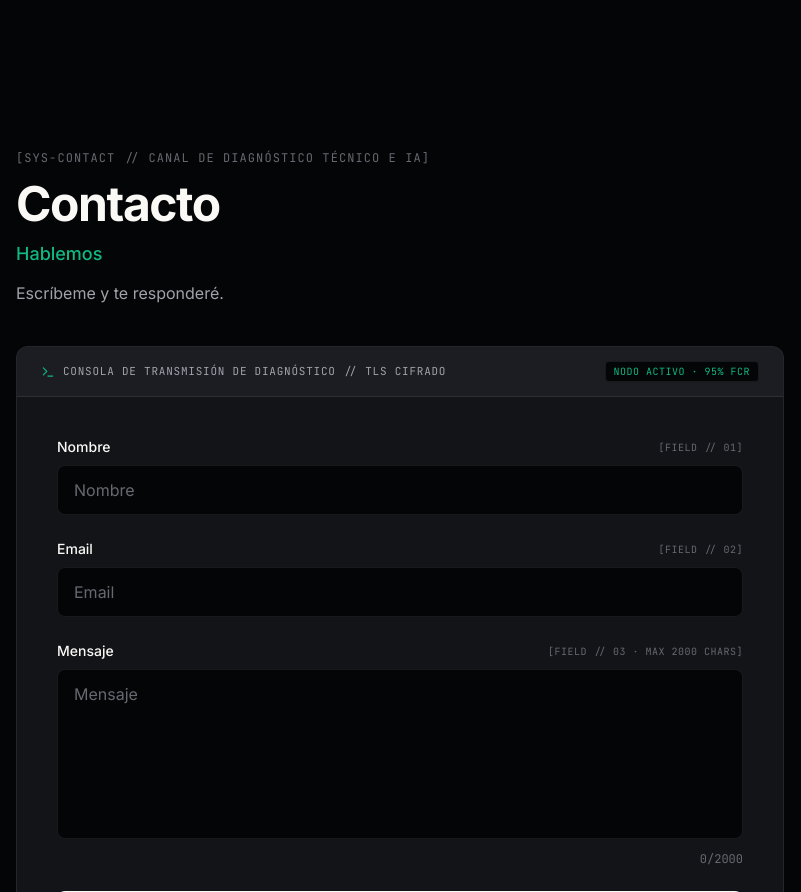
Test: ContactForm Component › should submit form successfully
In the field labelled "Nombre": (400, 490) left=57, top=465, right=743, bottom=515, type "Test User"
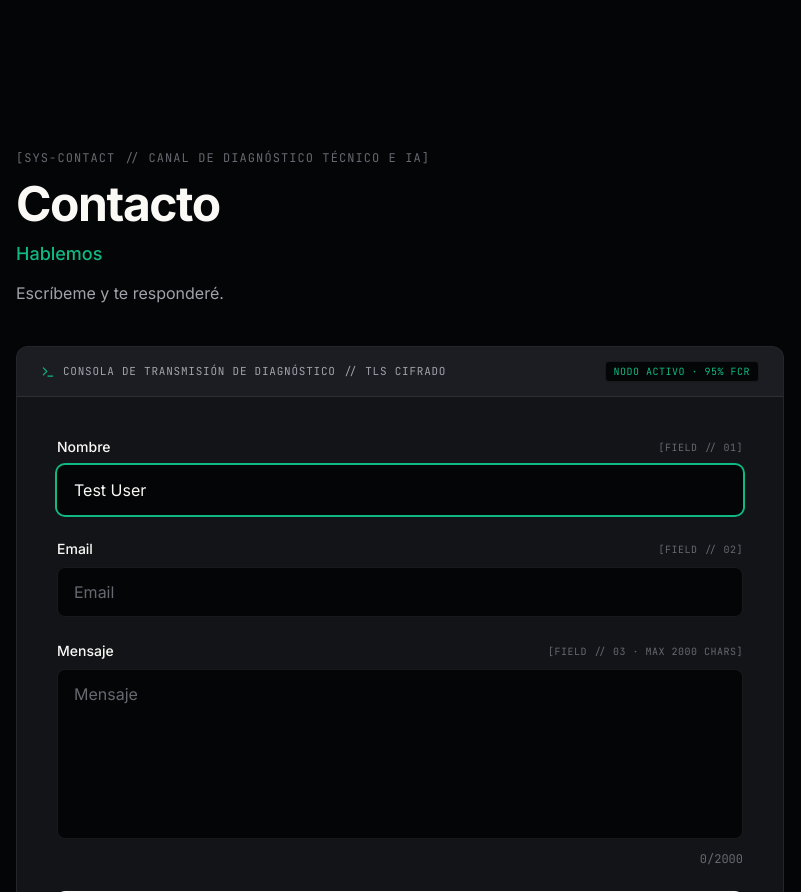
In the field labelled "Email": (400, 592) left=57, top=567, right=743, bottom=617, type "test@example.com"
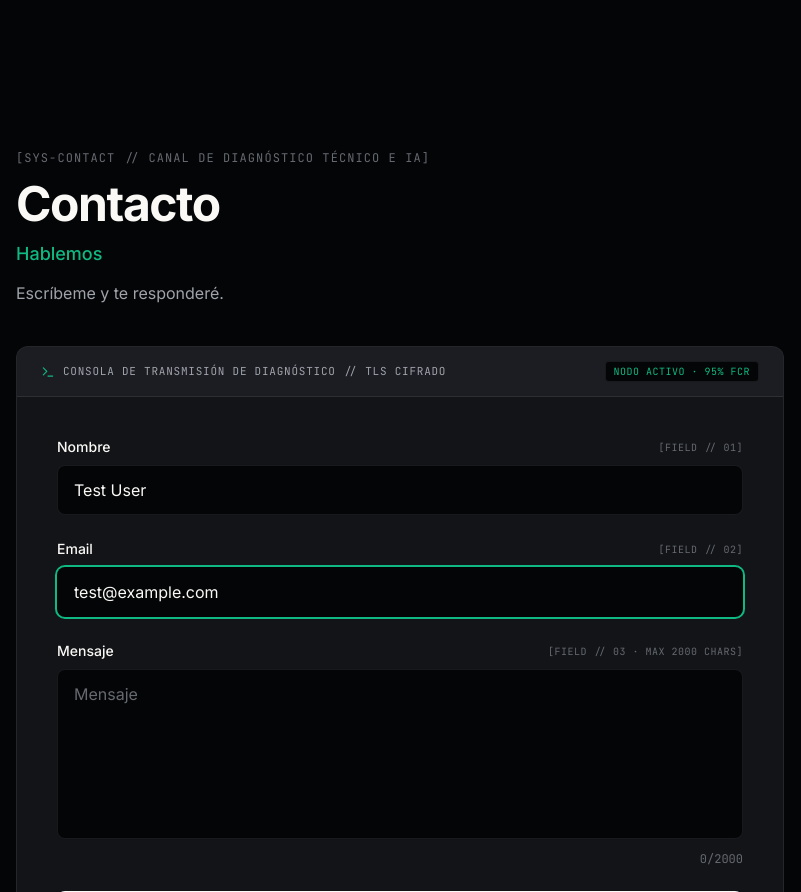
In the text box labelled "Mensaje": (400, 754) left=57, top=669, right=743, bottom=839, type "This is a test message with enough characters"
(page scrolled)
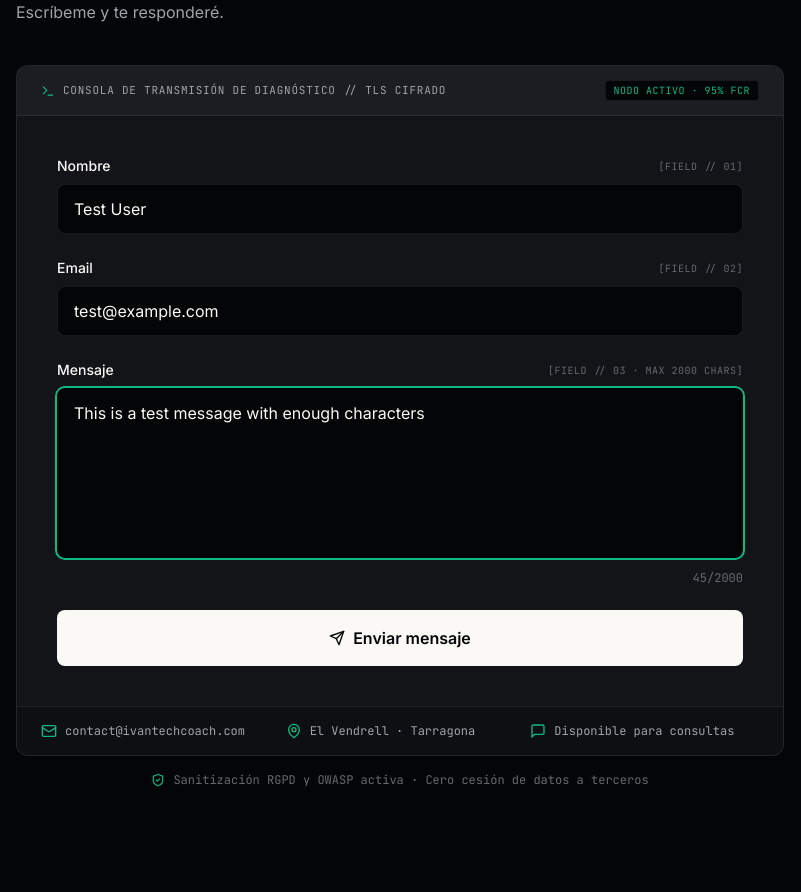
Click the button "Enviar mensaje": (400, 638) left=57, top=610, right=743, bottom=666
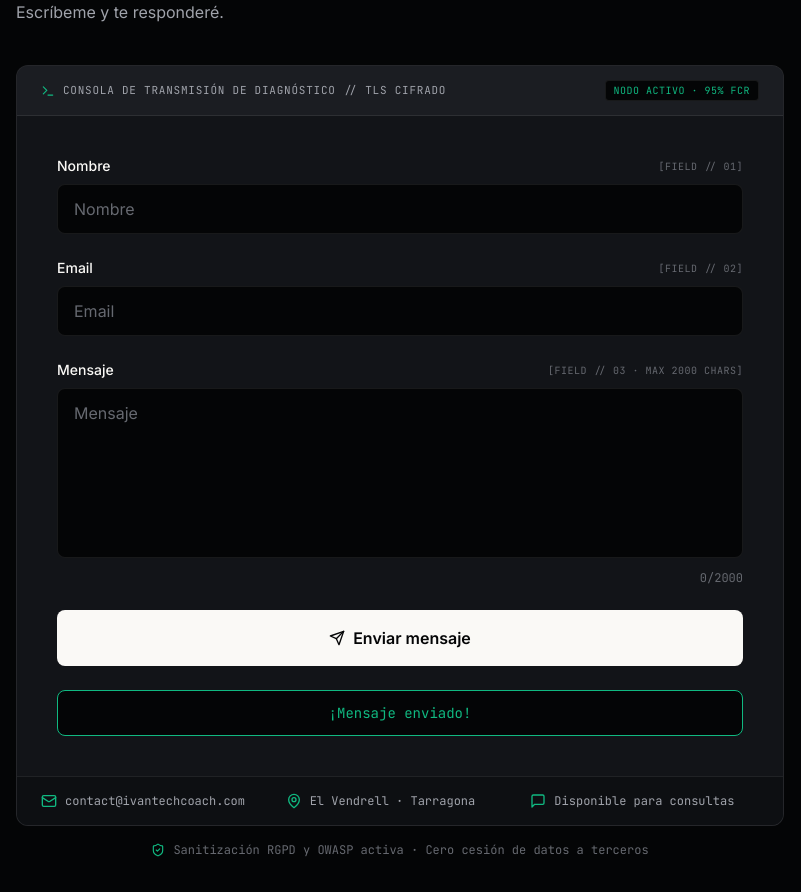
Expected: the text "¡Mensaje enviado!" is shown, left=57, top=690, right=743, bottom=736
